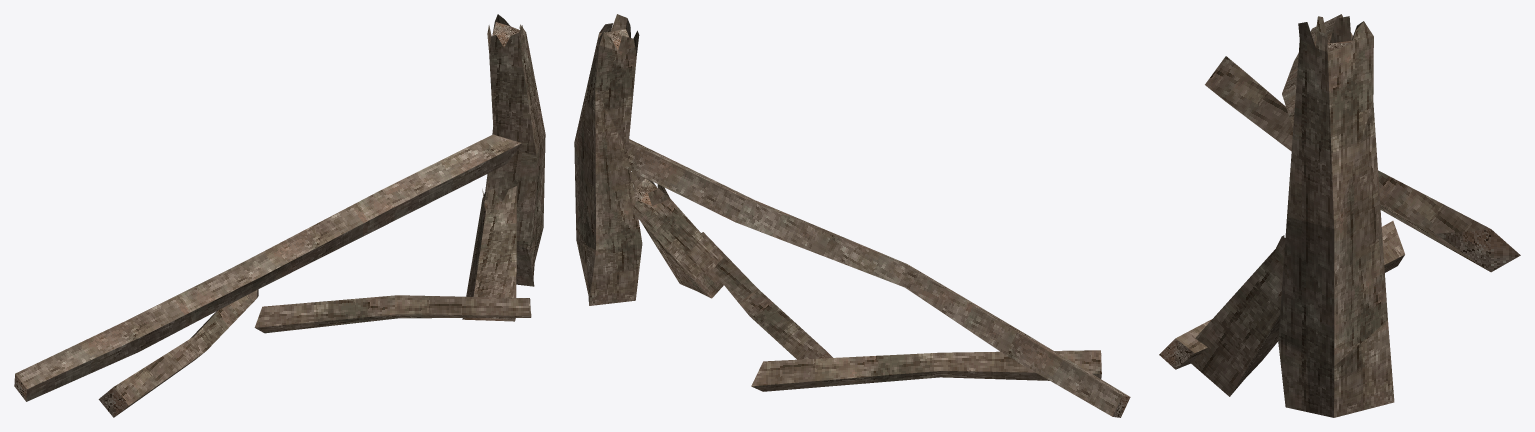
File: wooden_fence_broken_alt2.glb
The picture shows the model from 3 angles, left to right: view 1: azimuth 30°, elevation 25°; view 2: azimuth 150°, elevation 25°; view 3: azimuth 270°, elevation 25°; orthographic projection. The views are drawn at different scales.
Parts seen in each view (by area): view 1: wooden_fence_broken_alt2; view 2: wooden_fence_broken_alt2; view 3: wooden_fence_broken_alt2.
Boxes of the visible parts, left/top/right/bottom form: wooden_fence_broken_alt2: left=14, top=14, right=545, bottom=417; wooden_fence_broken_alt2: left=574, top=14, right=1130, bottom=417; wooden_fence_broken_alt2: left=1159, top=14, right=1520, bottom=417.
Size of the model in its own units: 2.59 by 1.29 by 1.04.
1 material, 1 textured.
